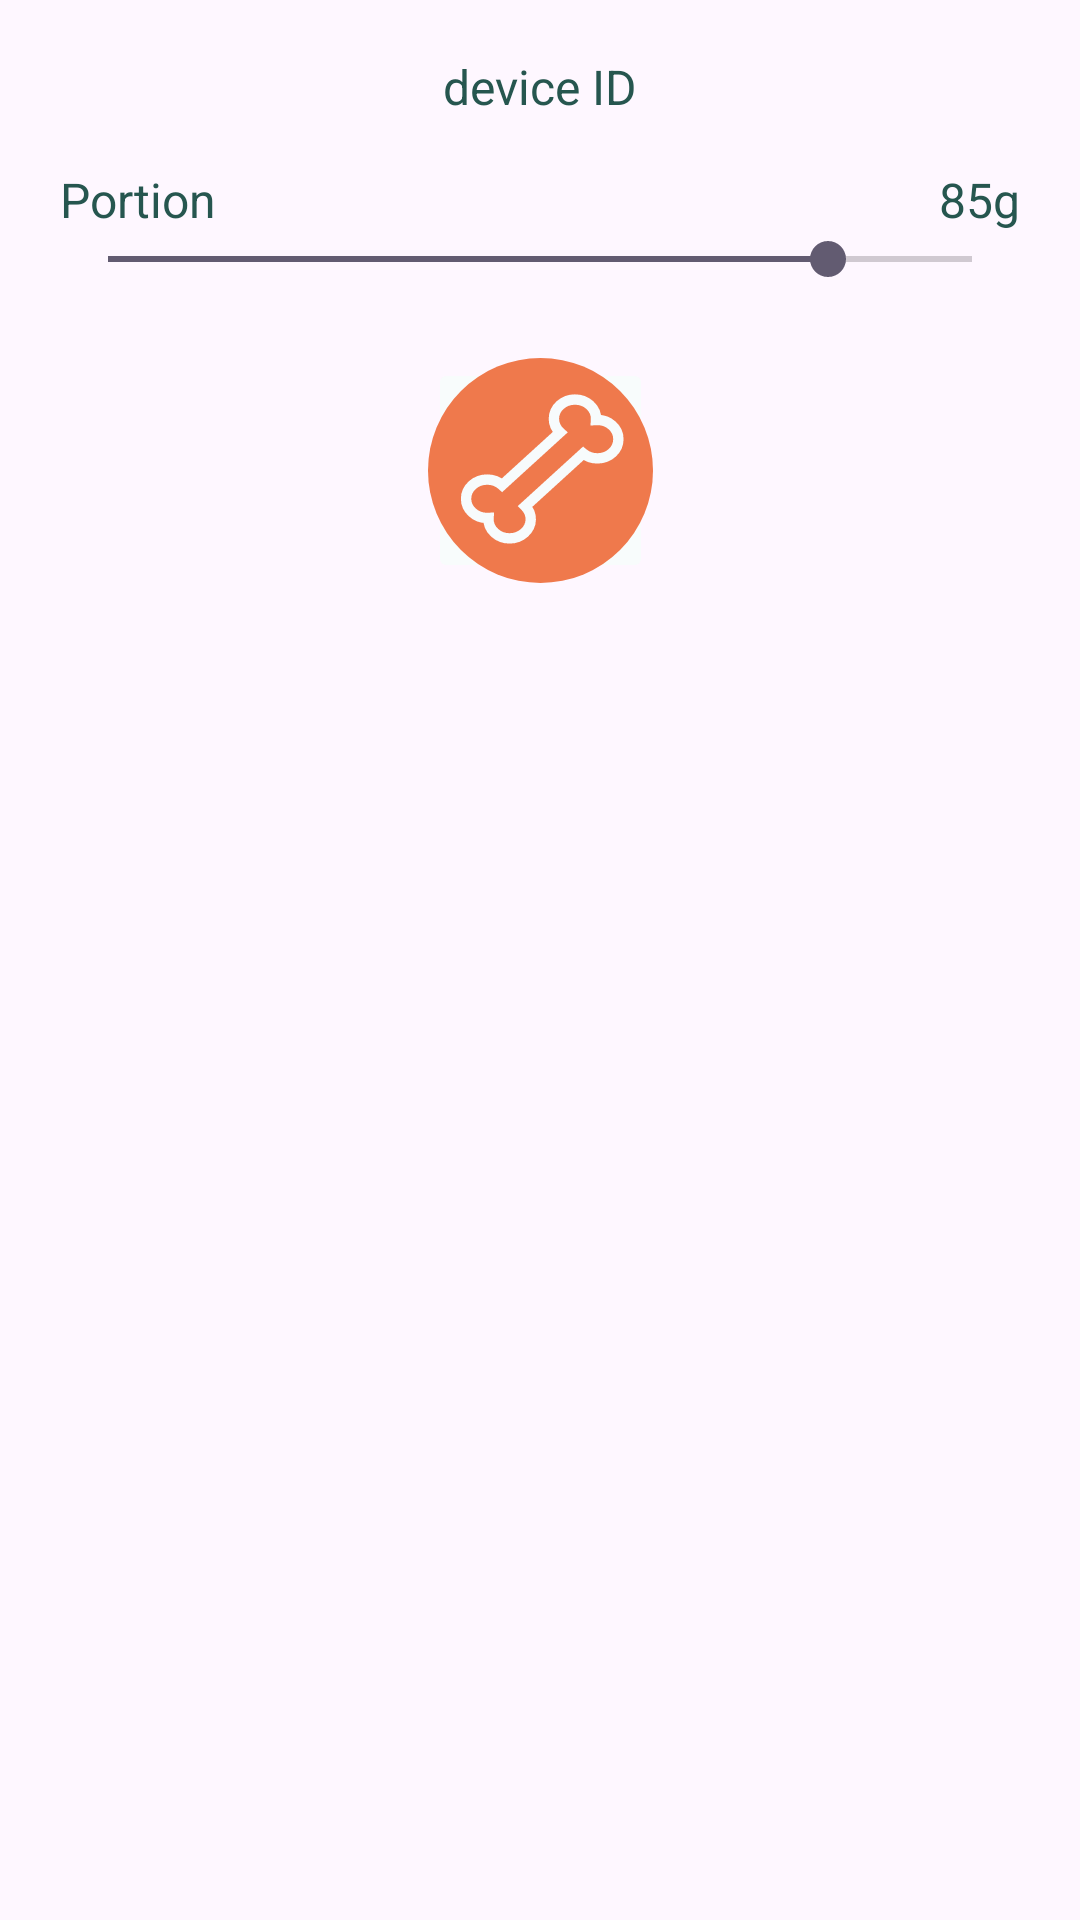

Screen size 1080w x 1920h. Icon name, then its center in pixels as (x=x, y=y):
treat: (x=540, y=470)
